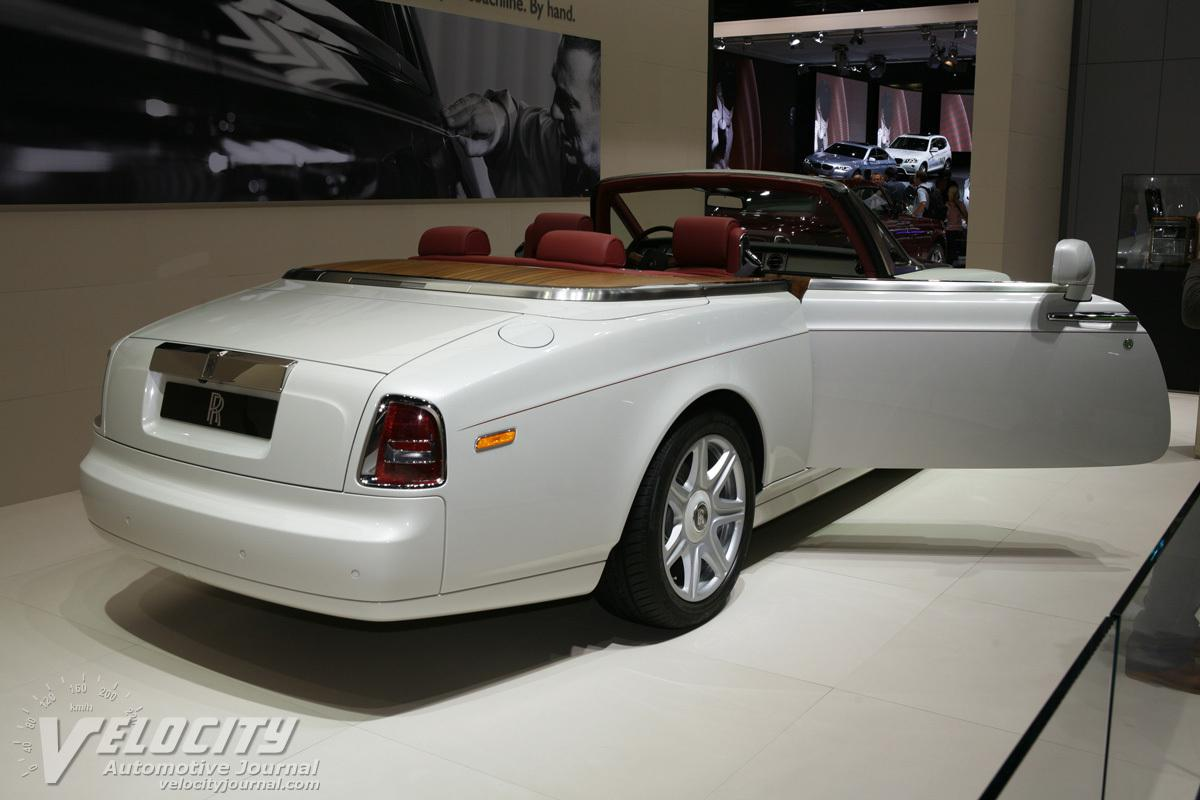Car: (38, 140, 1199, 691)
